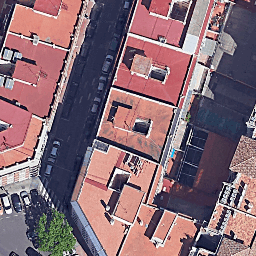car: (72, 58, 87, 80), (90, 2, 106, 21), (101, 54, 115, 75), (66, 79, 81, 98), (89, 96, 103, 116), (9, 192, 22, 213), (44, 158, 57, 178), (95, 75, 108, 95), (61, 98, 74, 118), (19, 191, 32, 210), (1, 193, 12, 215), (84, 118, 96, 138), (109, 33, 121, 52), (116, 14, 127, 32), (30, 186, 40, 205), (73, 154, 83, 173), (86, 22, 97, 38), (80, 42, 90, 59), (25, 246, 42, 256), (50, 141, 59, 158), (122, 1, 133, 12), (26, 230, 38, 240), (64, 247, 74, 256), (31, 240, 43, 247), (8, 251, 20, 255)
